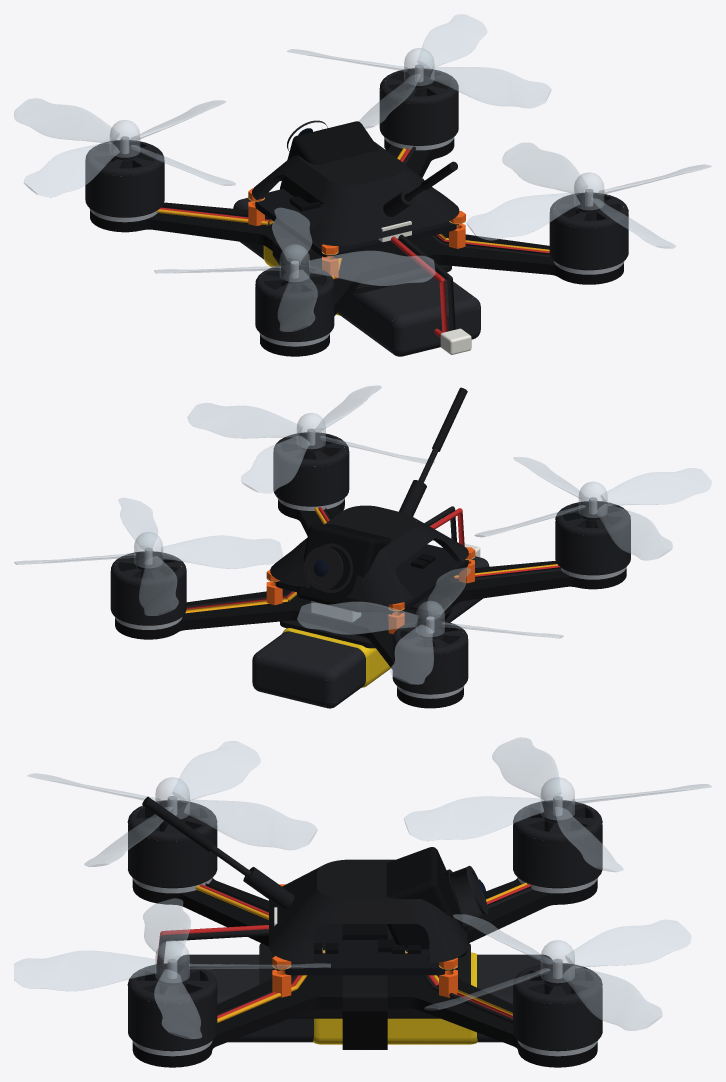
The model's file is hero-drone.glb.
3 renders of one model, top to bottom at view 1: azimuth 30°, elevation 25°; view 2: azimuth 150°, elevation 25°; view 3: azimuth 270°, elevation 25°, orthographic. The views are drawn at different scales.
Visible parts, largest first — view 1: frame, canopy, battery, propeller_front_left, propeller_rear_right, propeller_front_right, propeller_rear_left, motor_rear_right, motor_front_left, flight_controller, motor_front_right, motor_rear_left (+2 smaller); view 2: frame, battery, propeller_rear_left, propeller_rear_right, canopy, propeller_front_left, propeller_front_right, motor_front_right, motor_rear_left, motor_rear_right, motor_front_left, flight_controller (+3 smaller); view 3: frame, canopy, propeller_front_right, propeller_front_left, propeller_rear_right, propeller_rear_left, battery, motor_rear_right, motor_front_right, flight_controller, motor_front_left, motor_rear_left (+3 smaller).
Boxes of the visible parts, box(x1,y1,x2,y2) form: frame: box(90, 138, 623, 356); canopy: box(252, 142, 459, 246); battery: box(233, 198, 480, 356); propeller_front_left: box(14, 98, 235, 197); propeller_rear_right: box(466, 143, 711, 248); propeller_front_right: box(287, 14, 551, 128); propeller_rear_left: box(154, 208, 435, 331); motor_rear_right: box(432, 189, 628, 274); motor_front_left: box(85, 136, 273, 225); flight_controller: box(248, 188, 465, 332); motor_front_right: box(379, 64, 458, 166); motor_rear_left: box(255, 258, 341, 346); frame: box(115, 499, 626, 708); battery: box(252, 543, 489, 708); propeller_rear_left: box(474, 457, 711, 560); propeller_rear_right: box(187, 385, 434, 493); canopy: box(270, 480, 468, 604); propeller_front_left: box(297, 568, 563, 684); propeller_front_right: box(14, 498, 282, 615); motor_front_right: box(110, 547, 297, 629); motor_rear_left: box(450, 497, 630, 582); motor_rear_right: box(273, 428, 349, 524); motor_front_left: box(385, 614, 468, 698); flight_controller: box(266, 506, 475, 633); frame: box(132, 878, 597, 1067); canopy: box(243, 859, 467, 962); propeller_front_right: box(424, 914, 690, 1030); propeller_front_left: box(404, 737, 711, 871); propeller_rear_right: box(14, 898, 330, 1038); propeller_rear_left: box(27, 741, 317, 866); battery: box(128, 952, 552, 1044); motor_rear_right: box(127, 958, 307, 1056); motor_front_right: box(405, 949, 602, 1056); flight_controller: box(156, 884, 457, 997); motor_front_left: box(486, 796, 602, 908); motor_rear_left: box(127, 796, 268, 919).
Size of the model in its own units: 0.1089 by 0.0401 by 0.1089.
